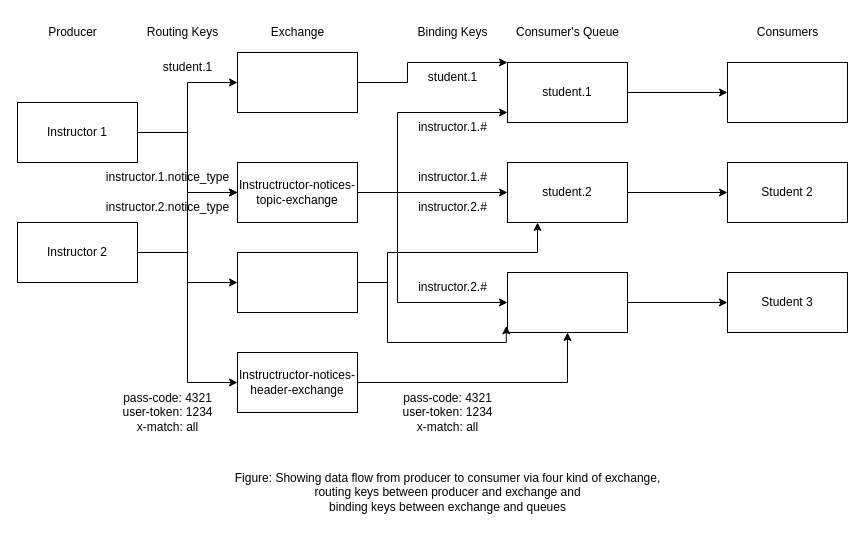
The diagram is 865 pixels wide and 539 high, and some of its shapes have lost their labels. Each missing label, with the centre of its shape:
Instructructor-notices-direct-exchange: pixel 297 82
Instructructor-notices-fanout-exchange: pixel 297 282
Student 1: pixel 787 92
student.3: pixel 567 302
